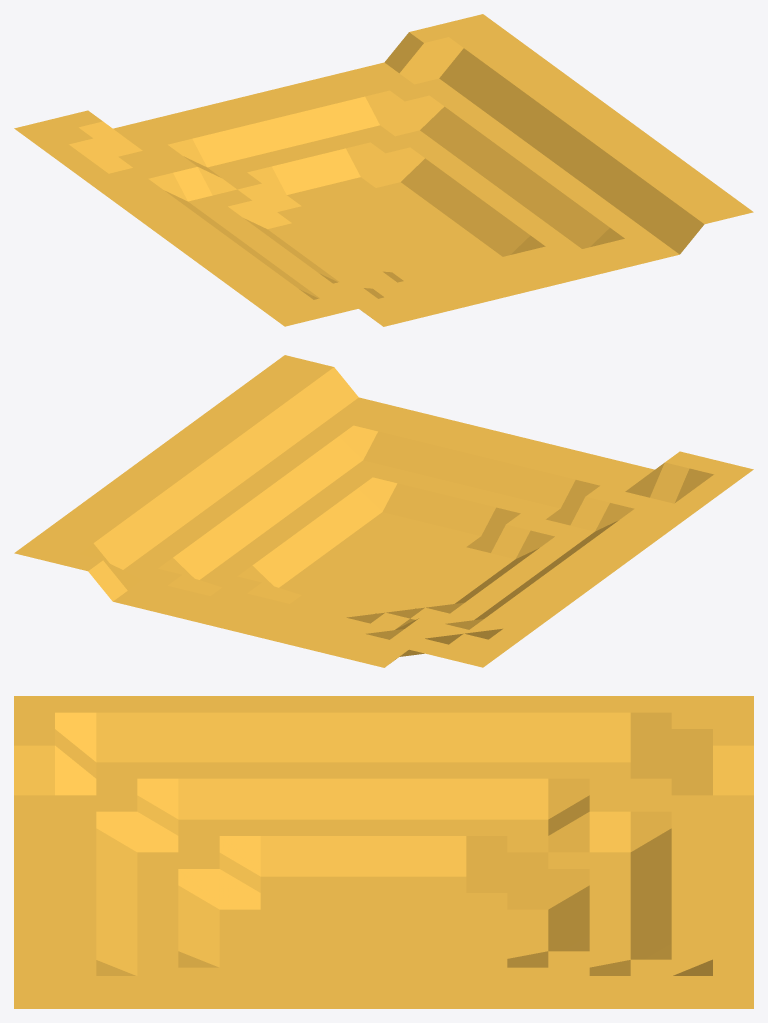
Rendered from terrain2.fbx.
3 views of the same model, one above another, from view 1: azimuth 30°, elevation 25°; view 2: azimuth 150°, elevation 25°; view 3: azimuth 270°, elevation 25° (orthographic). The views are drawn at different scales.
Visible parts, largest first — view 1: tarrain2; view 2: tarrain2; view 3: tarrain2.
Part boxes in pixels (bbox=[...]): tarrain2: bbox=[14, 14, 753, 326]; tarrain2: bbox=[14, 355, 753, 667]; tarrain2: bbox=[14, 696, 753, 1008].
Size of the model in its own units: 460 by 56.1 by 460.
